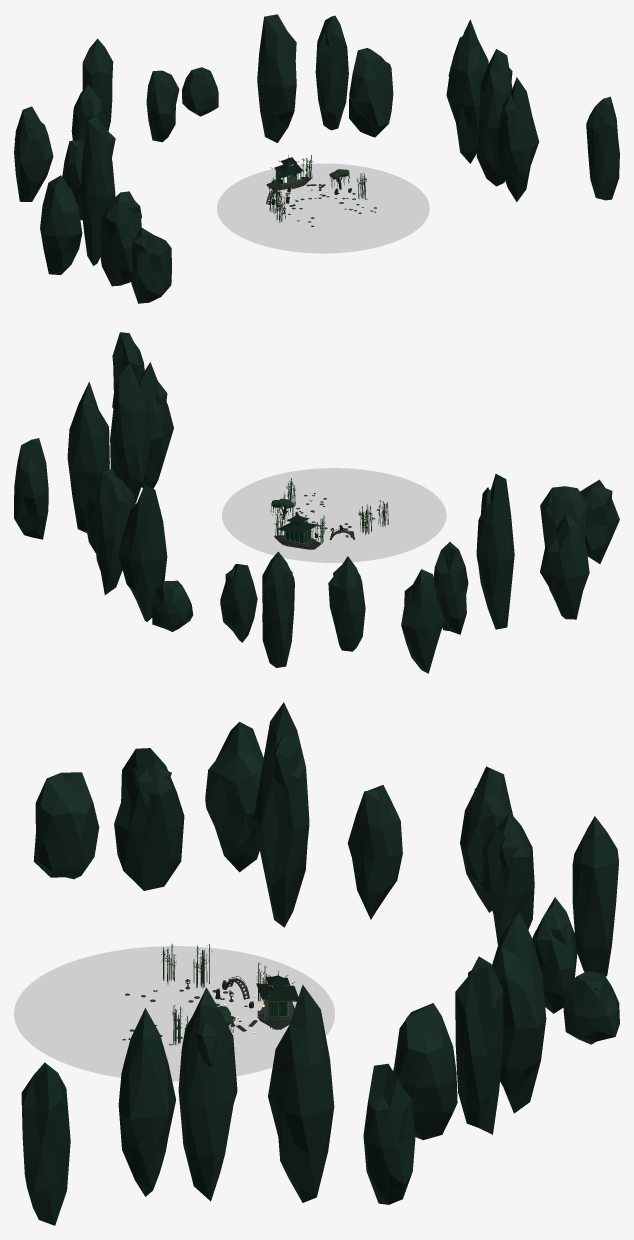
The picture shows the model from 3 angles, top to bottom: view 1: azimuth 30°, elevation 25°; view 2: azimuth 150°, elevation 25°; view 3: azimuth 270°, elevation 25°; orthographic projection. The views are drawn at different scales.
Parts seen in each view (by area): view 1: decor, sol; view 2: decor, sol; view 3: decor, sol.
Boxes of the visible parts, x1,y1,x2,y2 form: decor: [14, 14, 619, 303]; sol: [217, 163, 429, 253]; decor: [14, 332, 619, 673]; sol: [222, 468, 446, 562]; decor: [21, 702, 619, 1225]; sol: [14, 946, 334, 1081].
Size of the model in its own units: 267 by 73.61 by 181.
